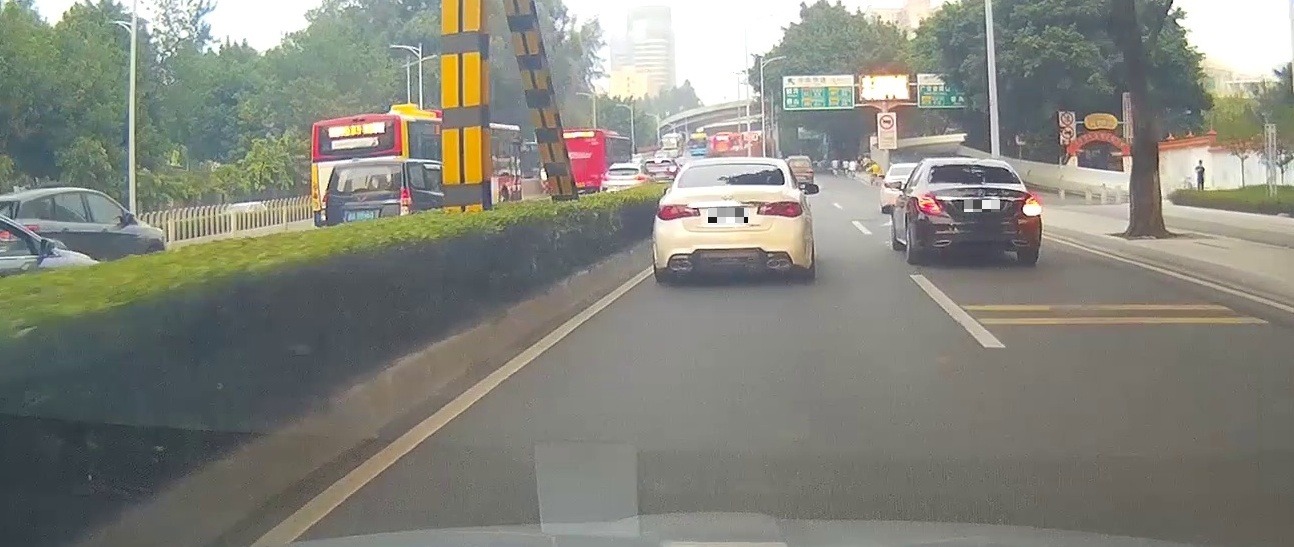L_light: (657, 203, 701, 221), (917, 196, 950, 217)
R_light: (756, 200, 803, 218), (1013, 195, 1041, 216)
T_light: (963, 164, 981, 169), (723, 164, 738, 167)
day-no: (655, 157, 811, 284)
day-right: (913, 158, 1043, 266)
plate_1: (708, 208, 748, 223)
plate_2: (964, 200, 1000, 212)
